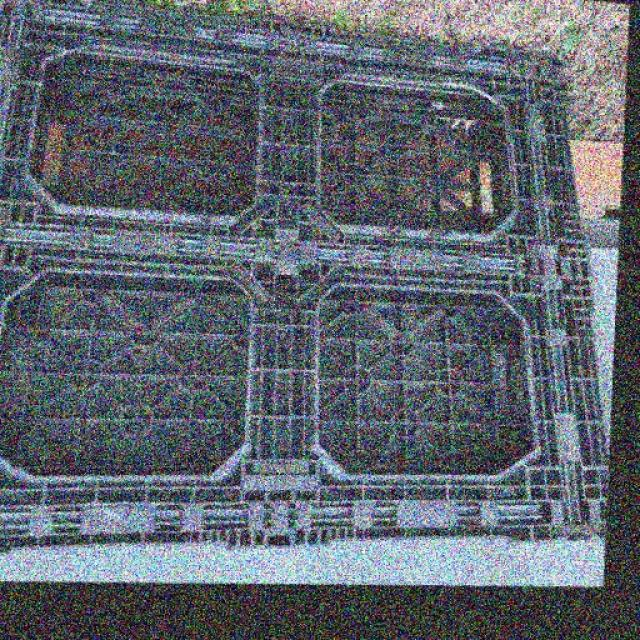igps: (0, 0, 630, 569)
